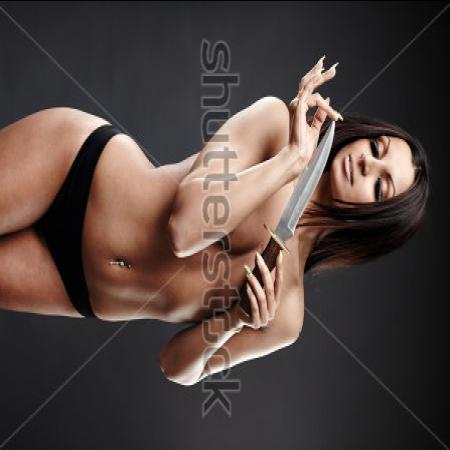long weapon: (240, 102, 346, 316)
